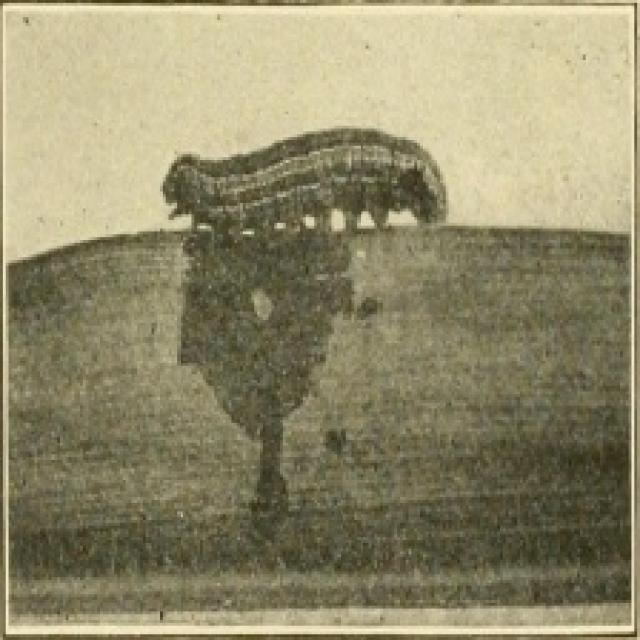armyworm: (147, 121, 461, 241)
